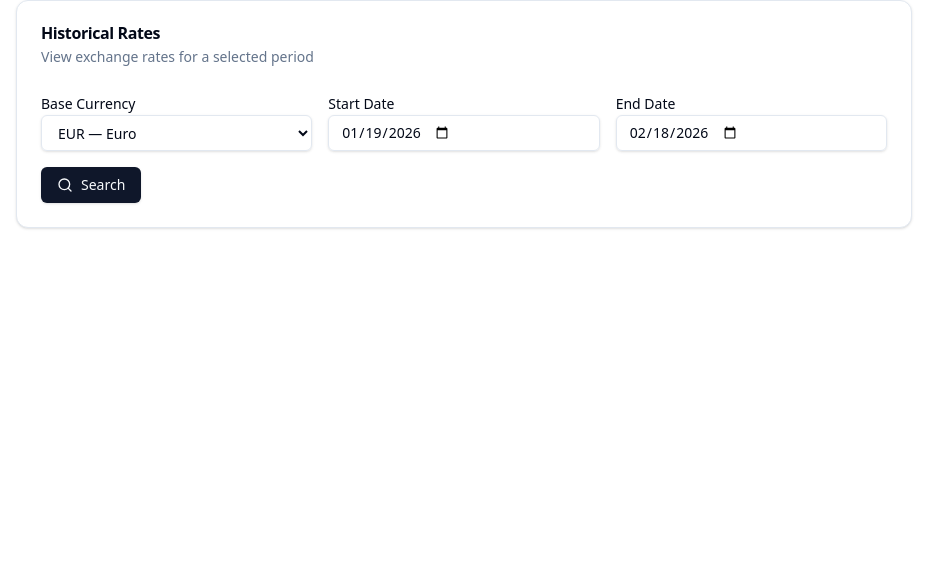
Test: HistoricalPage › shows data after search
What coordinates should you click on to do the following:
click the button "Search"
I would click on:
 (91, 185)
Its box is [41,167,141,203].
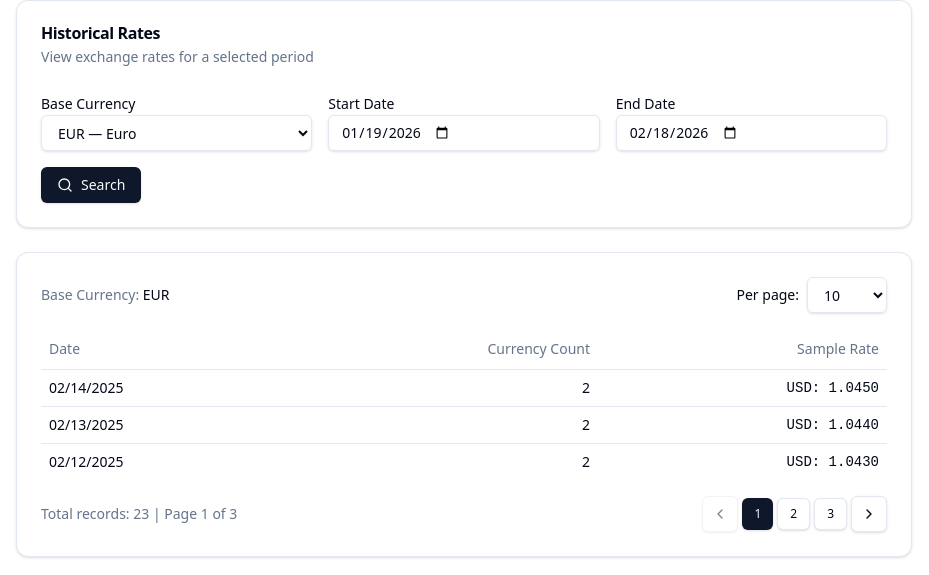
Expected: the text "Total records: 23 | Page 1 of 3" is shown, [41,504,237,524]
